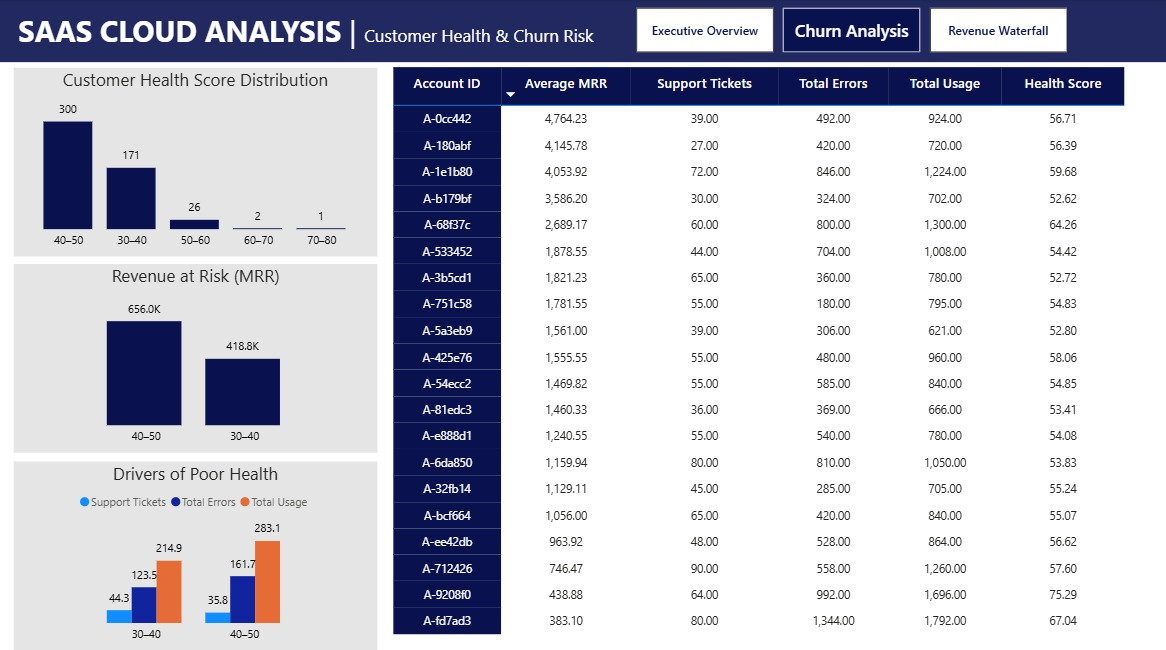

The page's visual inventory and layout, read from the dashboard file:
{"tool":"powerbi","page":{"name":"Churn Analysis","canvas":[1280,720],"ordinal":1},"visuals":[{"type":"shape","box":[0,0,1280,69.3],"z":0},{"type":"textbox","box":[14.9,8.7,874.5,61],"z":1000},{"type":"clusteredColumnChart","title":"Customer Health Score Distribution","fields":{"Y":["CountNonNull(VW_CUSTOMER_HEALTH.ACCOUNT_ID)"],"Category":["VW_CUSTOMER_HEALTH.HEALTH_BUCKET"]},"box":[15.3,75.3,398.9,207.4],"z":2000},{"type":"tableEx","title":"Customer Health Score Distribution","fields":{"Values":["VW_CUSTOMER_HEALTH.ACCOUNT_ID","VW_CUSTOMER_HEALTH.AVG_MRR","VW_CUSTOMER_HEALTH.SUPPORT_TICKETS","VW_CUSTOMER_HEALTH.TOTAL_ERRORS","VW_CUSTOMER_HEALTH.TOTAL_USAGE","VW_CUSTOMER_HEALTH.HEALTH_SCORE"]},"box":[425.4,70,826.1,650.4],"z":2001},{"type":"clusteredColumnChart","title":"Revenue at Risk (MRR)","fields":{"Category":["VW_CUSTOMER_HEALTH.HEALTH_BUCKET"],"Y":["Sum(VW_CUSTOMER_HEALTH.AVG_MRR)"]},"box":[15.1,290.9,399.3,207.2],"z":2002},{"type":"clusteredColumnChart","title":"Drivers of Poor Health","fields":{"Category":["VW_CUSTOMER_HEALTH.HEALTH_BUCKET"],"Y":["Avg(VW_CUSTOMER_HEALTH.SUPPORT_TICKETS)","Avg(VW_CUSTOMER_HEALTH.TOTAL_ERRORS)","Avg(VW_CUSTOMER_HEALTH.TOTAL_USAGE)"]},"box":[15,508.1,399.4,207.5],"z":2003},{"type":"pageNavigator","box":[698.5,9.6,473.4,49.4],"z":2004}]}

Visuals, with their boxes in screenshot pixels (x1, y1, x2, y2), scaled from the page's 1280x720 canvas onto the 1166x650 screenshot:
shape: 0,0,1165,63
textbox: 14,8,810,63
"Customer Health Score Distribution" clusteredColumnChart: 14,68,377,255
"Customer Health Score Distribution" tableEx: 388,63,1140,649
"Revenue at Risk (MRR)" clusteredColumnChart: 14,263,377,450
"Drivers of Poor Health" clusteredColumnChart: 14,459,377,646
pageNavigator: 636,9,1068,53
